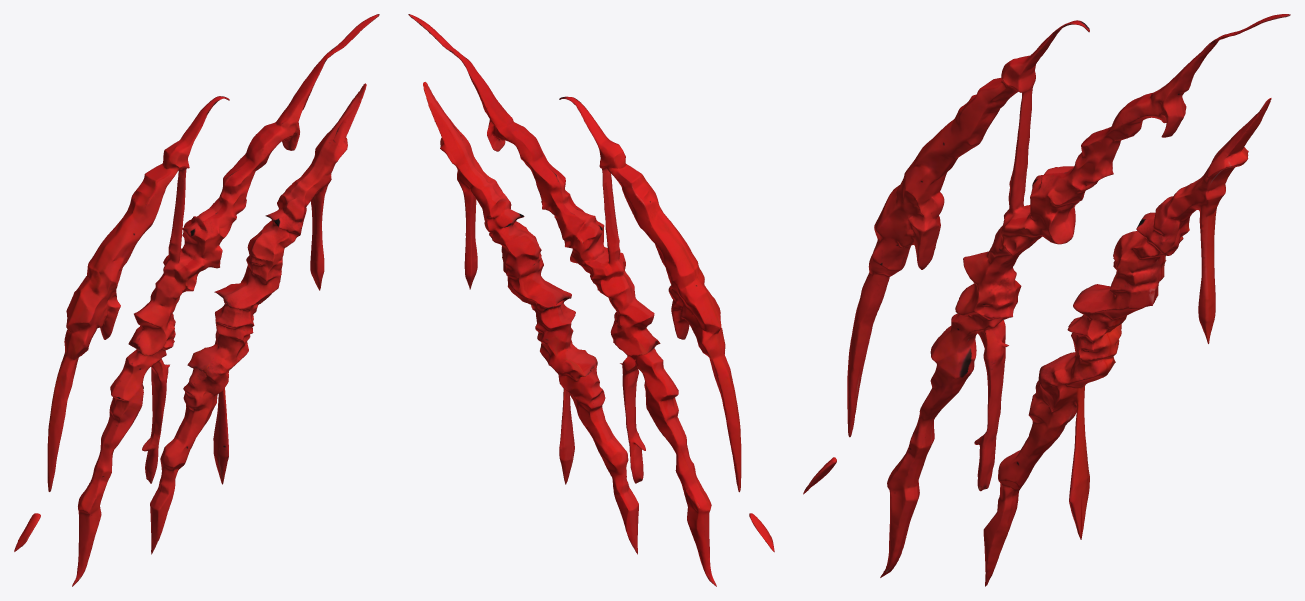
File: Lineas.glb
3 renders of one model, left to right at view 1: azimuth 30°, elevation 25°; view 2: azimuth 150°, elevation 25°; view 3: azimuth 330°, elevation 25°, orthographic. The views are drawn at different scales.
Bounding box in the file's own units: 1.53 × 1.99 × 0.1805.
1 material, 1 textured.
